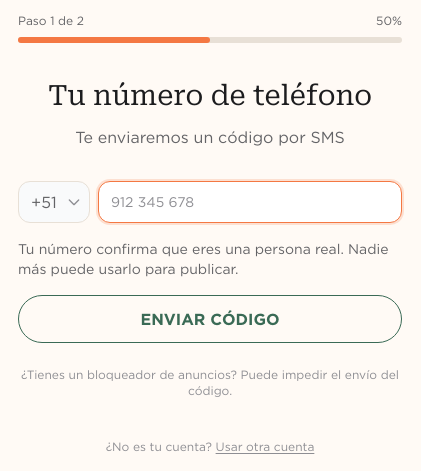
Test case: AuthPipelinePage › code step › resend waits 30 seconds, not 60, and says what to do if nothing arrives
The width and height of the screenshot is (421, 471).
Type "912345678" into the field with placeholder "912 345 678" at [250, 202], box [98,181,402,223]
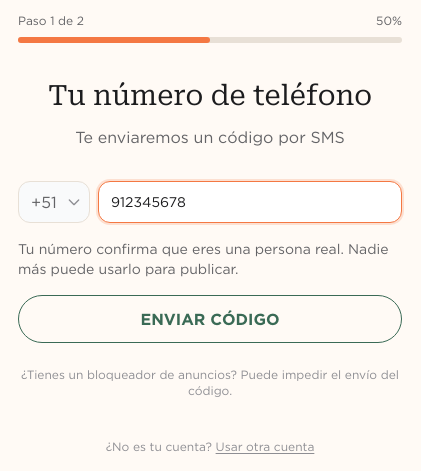
Click the button "Enviar código" at [210, 319], box [18,295,402,343]
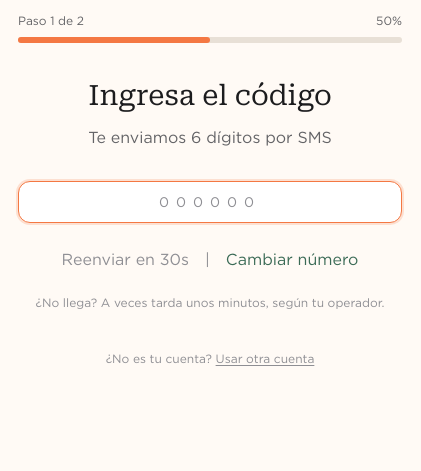
Expected: the heading "Ingresa el código" is shown, [88,79,332,112]
Expected: the button "Reenviar en 30s" is shown, [62,247,189,271]
Expected: the text "¿No llega? A veces tarda unos minutos, según tu operador." is shown, [18,295,402,311]
